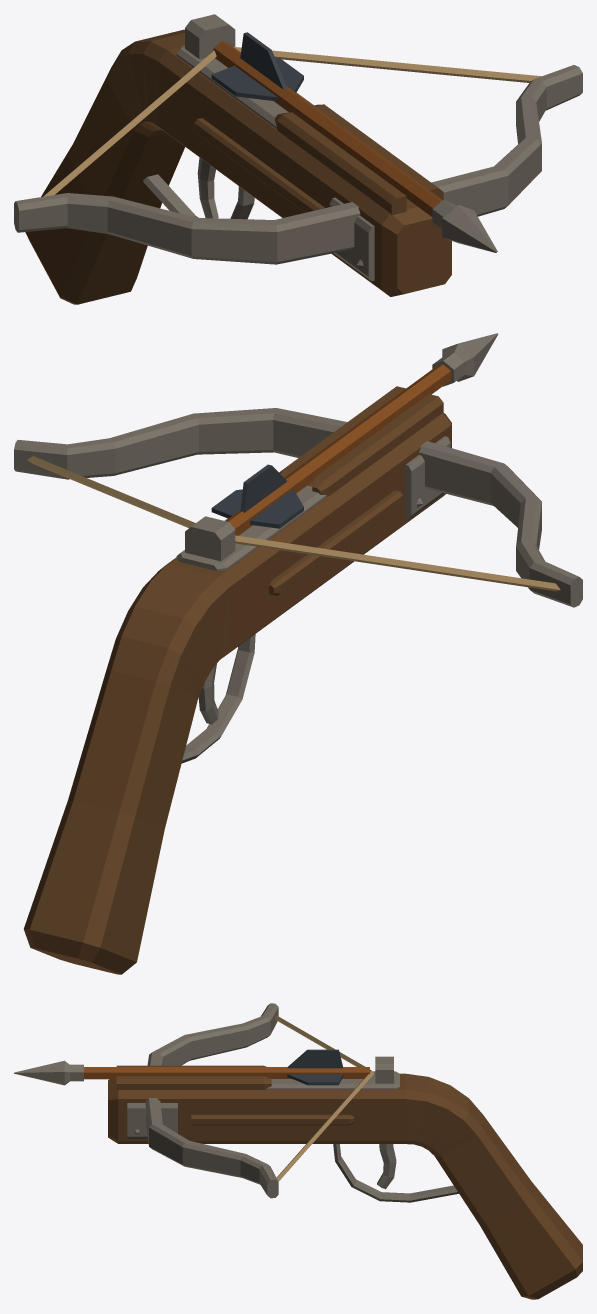
The model's file is hand-crossbow-77a4c7.glb.
3 views of the same model, one above another, from view 1: azimuth 30°, elevation 25°; view 2: azimuth 150°, elevation 25°; view 3: azimuth 270°, elevation 25° (orthographic). The views are drawn at different scales.
Visible parts, largest first — view 1: stock, bolt-mesh, trigger-lever; view 2: stock, bolt-mesh; view 3: stock, bolt-mesh, trigger-lever.
Part boxes in pixels (bbox=[...]): stock: bbox=[14, 14, 582, 304]; bolt-mesh: bbox=[211, 32, 497, 252]; trigger-lever: bbox=[197, 157, 218, 218]; stock: bbox=[14, 386, 582, 974]; bolt-mesh: bbox=[211, 333, 498, 535]; stock: bbox=[108, 1003, 582, 1299]; bolt-mesh: bbox=[14, 1049, 369, 1085]; trigger-lever: bbox=[377, 1144, 396, 1189].
Bounding box in the file's own units: 0.2818 × 0.1799 × 0.3818.
